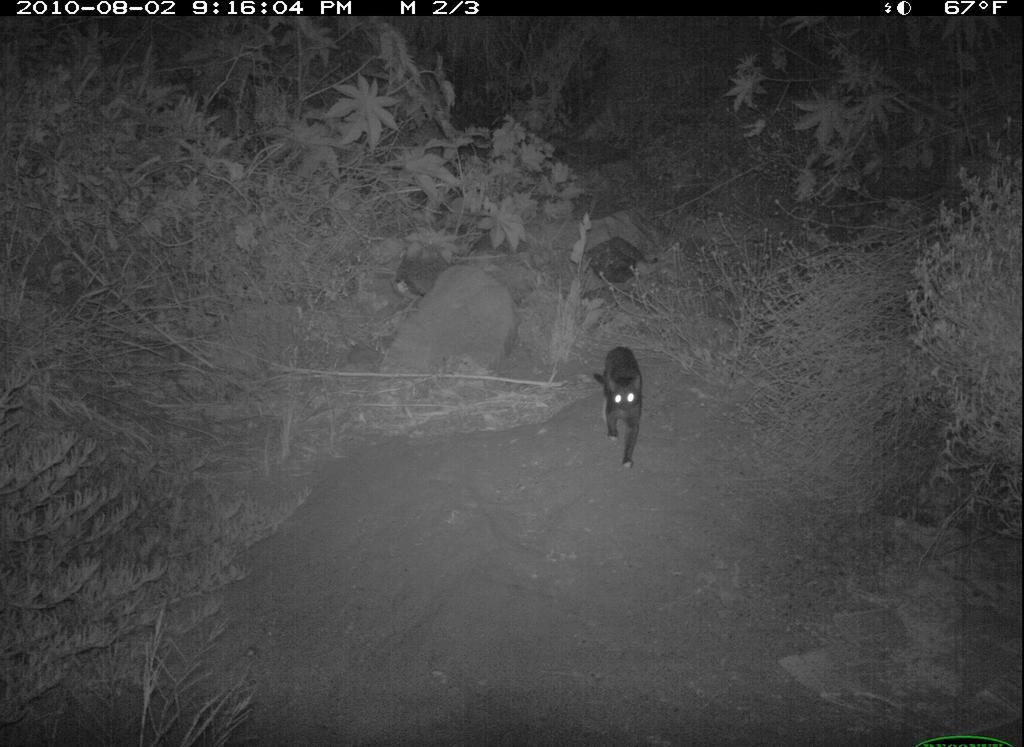cat: (588, 341, 652, 474)
